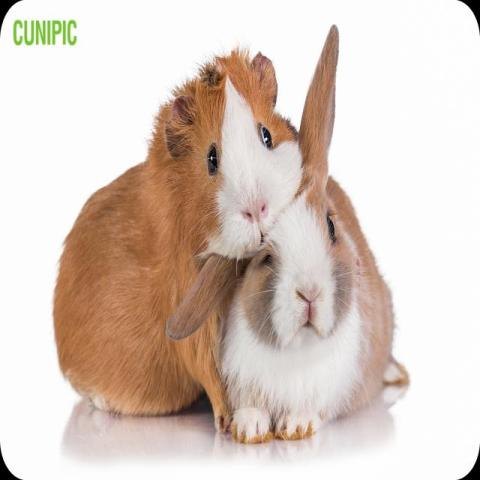small_animal: (2, 2, 476, 477), (51, 43, 310, 424), (214, 23, 410, 445)
